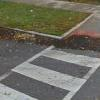Crosswalk: (11, 39, 78, 100)
